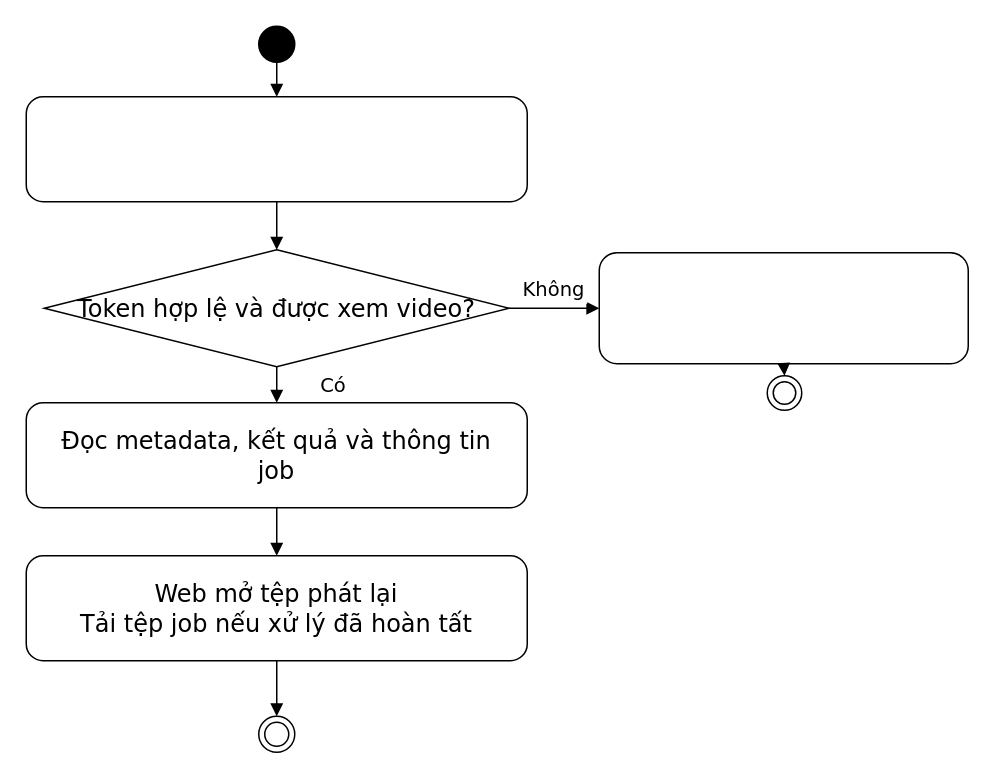
The diagram is 995 pixels wide and 779 high, and some of its shapes have lost their labels. The shapes that lost their labels are listed below. From the top down, each one's centre as x and y in pixels, then its label:
At point 276,148: "Mở danh sách video trong Tài khoản".
At point 783,307: "API từ chối yêu cầu".
